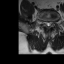CCS_normal: (47, 20, 49, 27)
LFS_stenosis: (51, 19, 53, 25)
LLS_normal: (49, 20, 51, 27)
RFS_normal: (43, 19, 45, 25)
RLS_normal: (45, 19, 47, 26)
